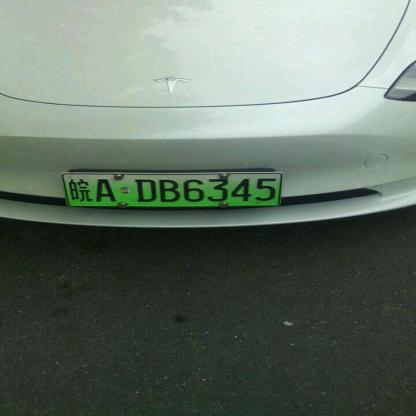lp: (63, 173, 281, 205)
